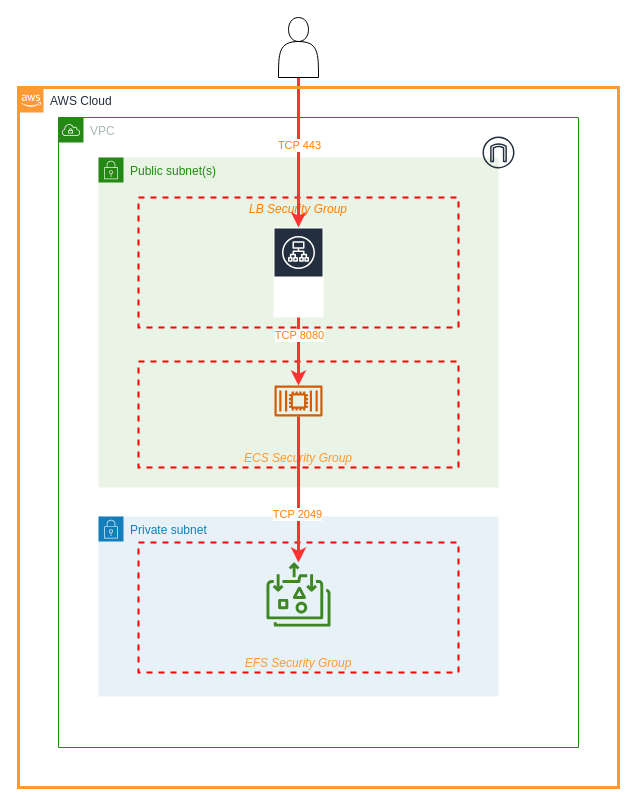
This 637x806 diagram has some shape labels left out. Each missing label, with the centre of its shape:
Application Load Balancer: (x=298, y=272)
ECS Cluster: (x=298, y=400)
EFS Share: (x=298, y=594)
Internet gateway: (x=498, y=152)
